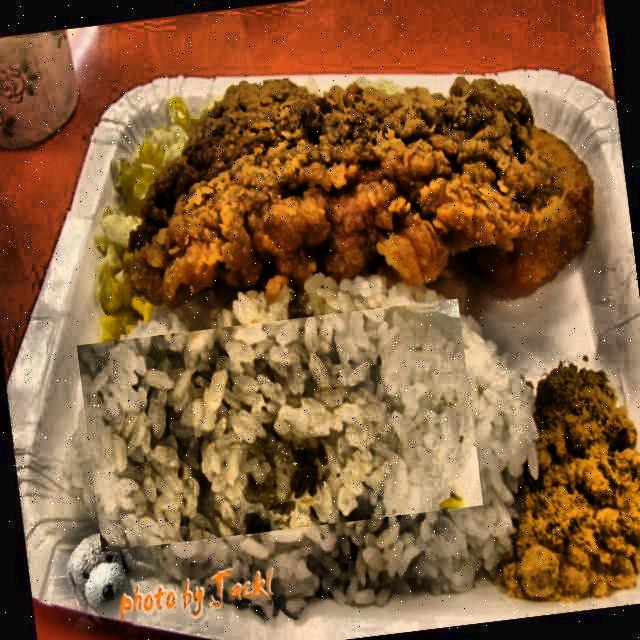Food: (113, 41, 556, 314), (75, 298, 482, 552)
